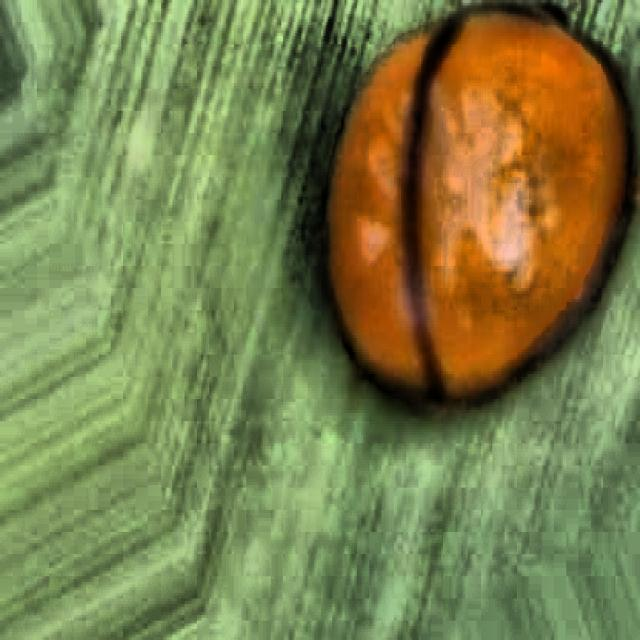Ladybug: (259, 3, 635, 481)
